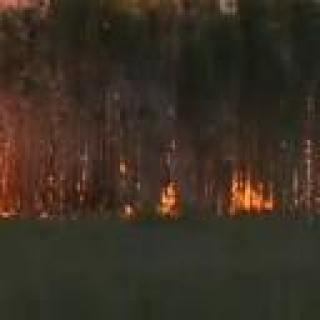fire: (233, 178, 270, 214), (156, 186, 183, 220), (0, 99, 6, 216)
